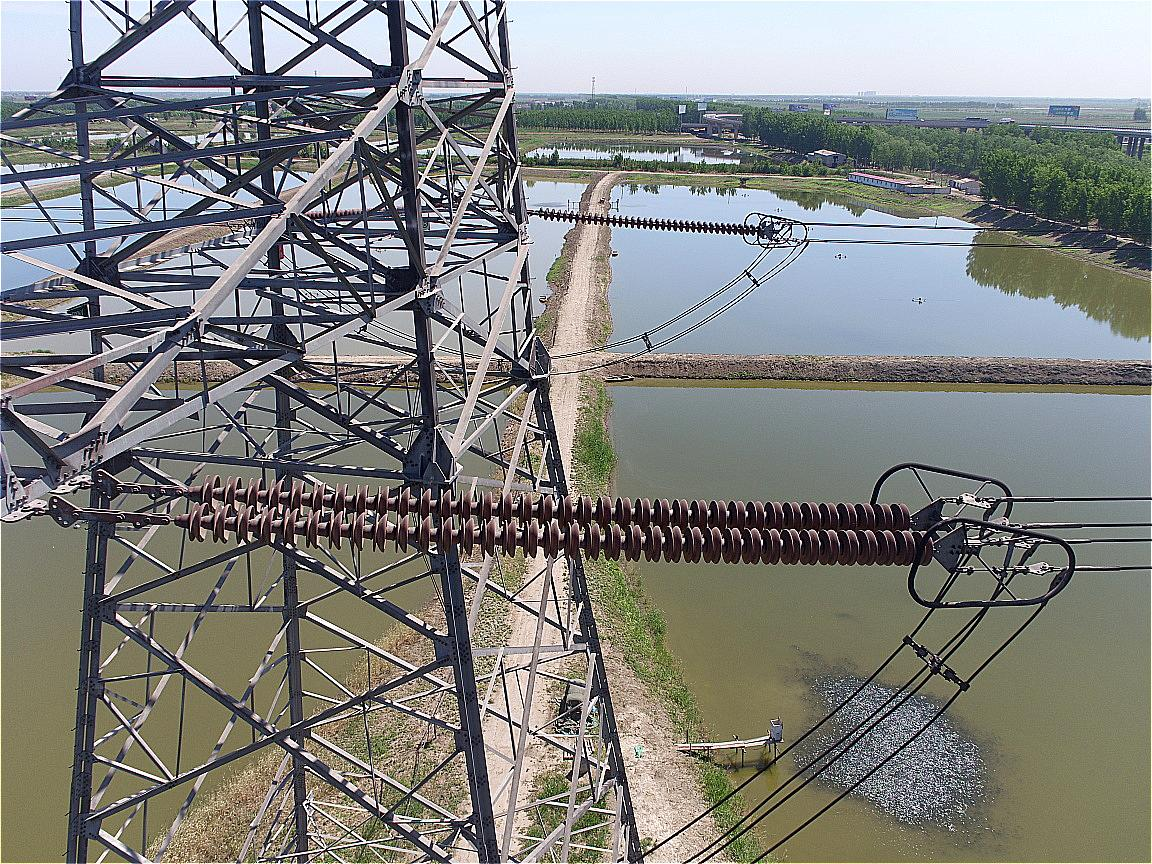insultor1: (542, 209, 756, 236)
insultor2: (186, 476, 934, 568)
